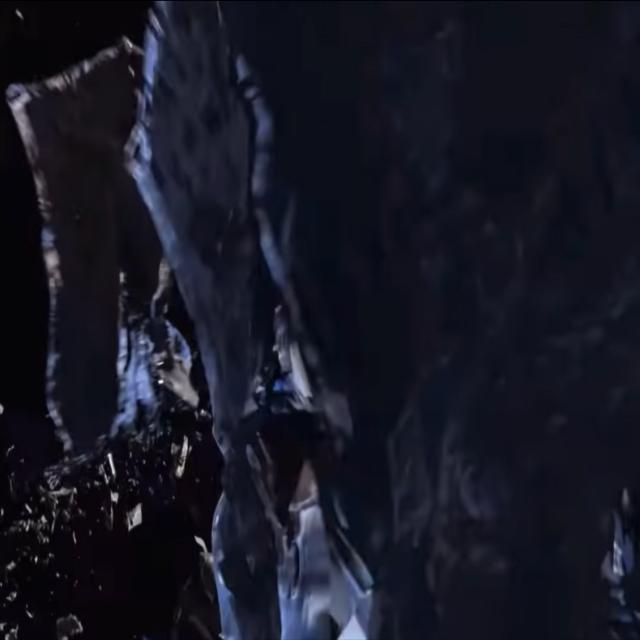large_debris: (9, 3, 382, 640), (122, 269, 196, 452), (49, 589, 90, 640), (118, 488, 149, 542)
